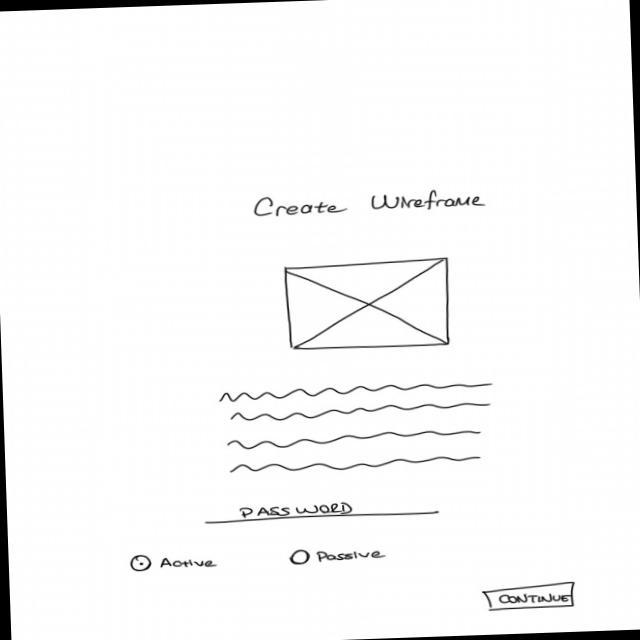button: (484, 580, 577, 613)
image: (282, 256, 456, 353)
input: (204, 497, 442, 526)
label: (252, 188, 487, 220)
radio: (289, 544, 391, 566), (130, 551, 221, 575)
textbox: (218, 380, 498, 478)
